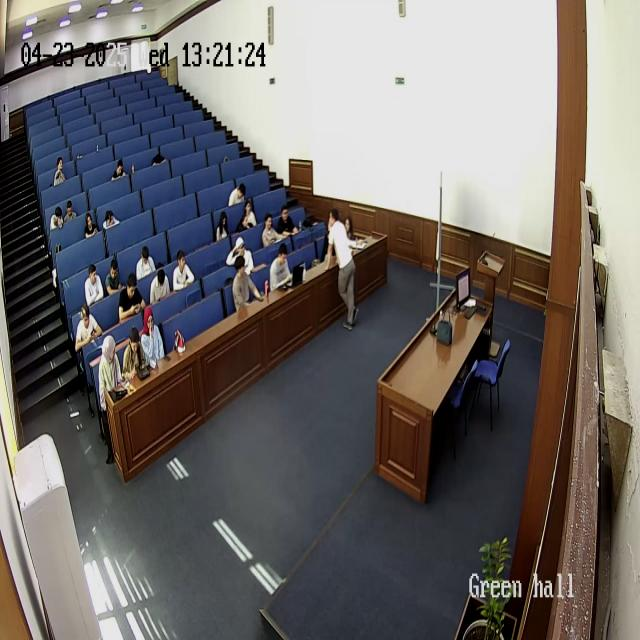person: (324, 207, 360, 325), (98, 335, 128, 458), (232, 253, 262, 312), (140, 305, 165, 369), (75, 300, 103, 356), (122, 326, 147, 382), (118, 272, 146, 322), (268, 242, 293, 292), (226, 237, 254, 276), (172, 249, 195, 291), (84, 264, 104, 309), (149, 267, 171, 305), (135, 243, 157, 281), (105, 258, 124, 298), (277, 204, 299, 238), (261, 212, 281, 248), (215, 209, 233, 243), (102, 208, 120, 236), (240, 200, 256, 230), (228, 181, 246, 207), (84, 211, 100, 239), (52, 156, 66, 186), (344, 214, 358, 241), (50, 206, 64, 233), (111, 158, 128, 180), (64, 200, 78, 224), (150, 148, 168, 166)
